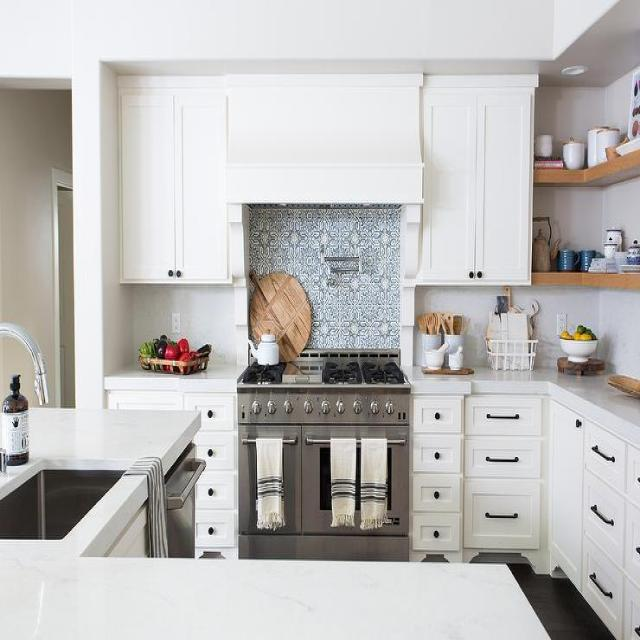dishwasher: (133, 434, 221, 612)
